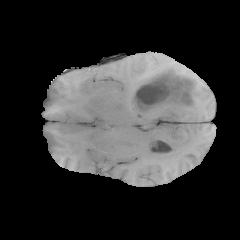glioma: (131, 65, 198, 113)
